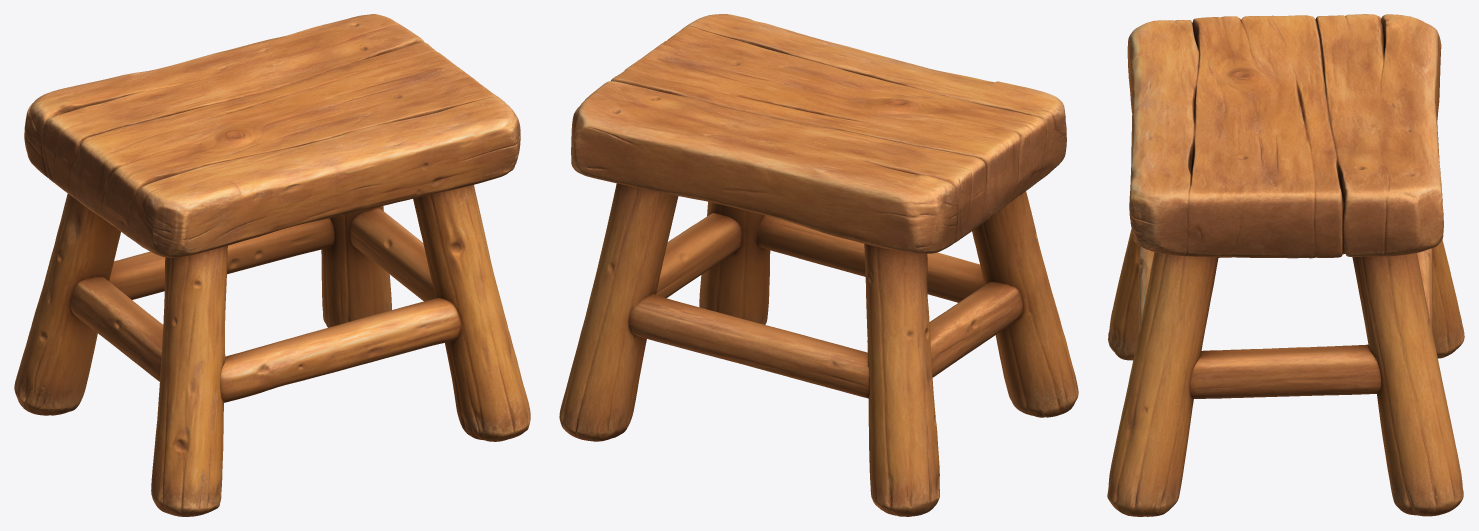
File: wooden-stool.glb
The picture shows the model from 3 angles, left to right: view 1: azimuth 30°, elevation 25°; view 2: azimuth 150°, elevation 25°; view 3: azimuth 270°, elevation 25°; orthographic projection. The views are drawn at different scales.
Parts seen in each view (by area): view 1: tripo_node_d7900ce1-dd00-4f25-9960-e715e192c9da; view 2: tripo_node_d7900ce1-dd00-4f25-9960-e715e192c9da; view 3: tripo_node_d7900ce1-dd00-4f25-9960-e715e192c9da.
Boxes of the visible parts, bbox=[...] form: tripo_node_d7900ce1-dd00-4f25-9960-e715e192c9da: bbox=[14, 14, 530, 516]; tripo_node_d7900ce1-dd00-4f25-9960-e715e192c9da: bbox=[559, 14, 1078, 516]; tripo_node_d7900ce1-dd00-4f25-9960-e715e192c9da: bbox=[1107, 14, 1464, 516].
Size of the model in its own units: 1 by 0.8246 by 0.8054.
Materials: 1 (1 with a texture image).
